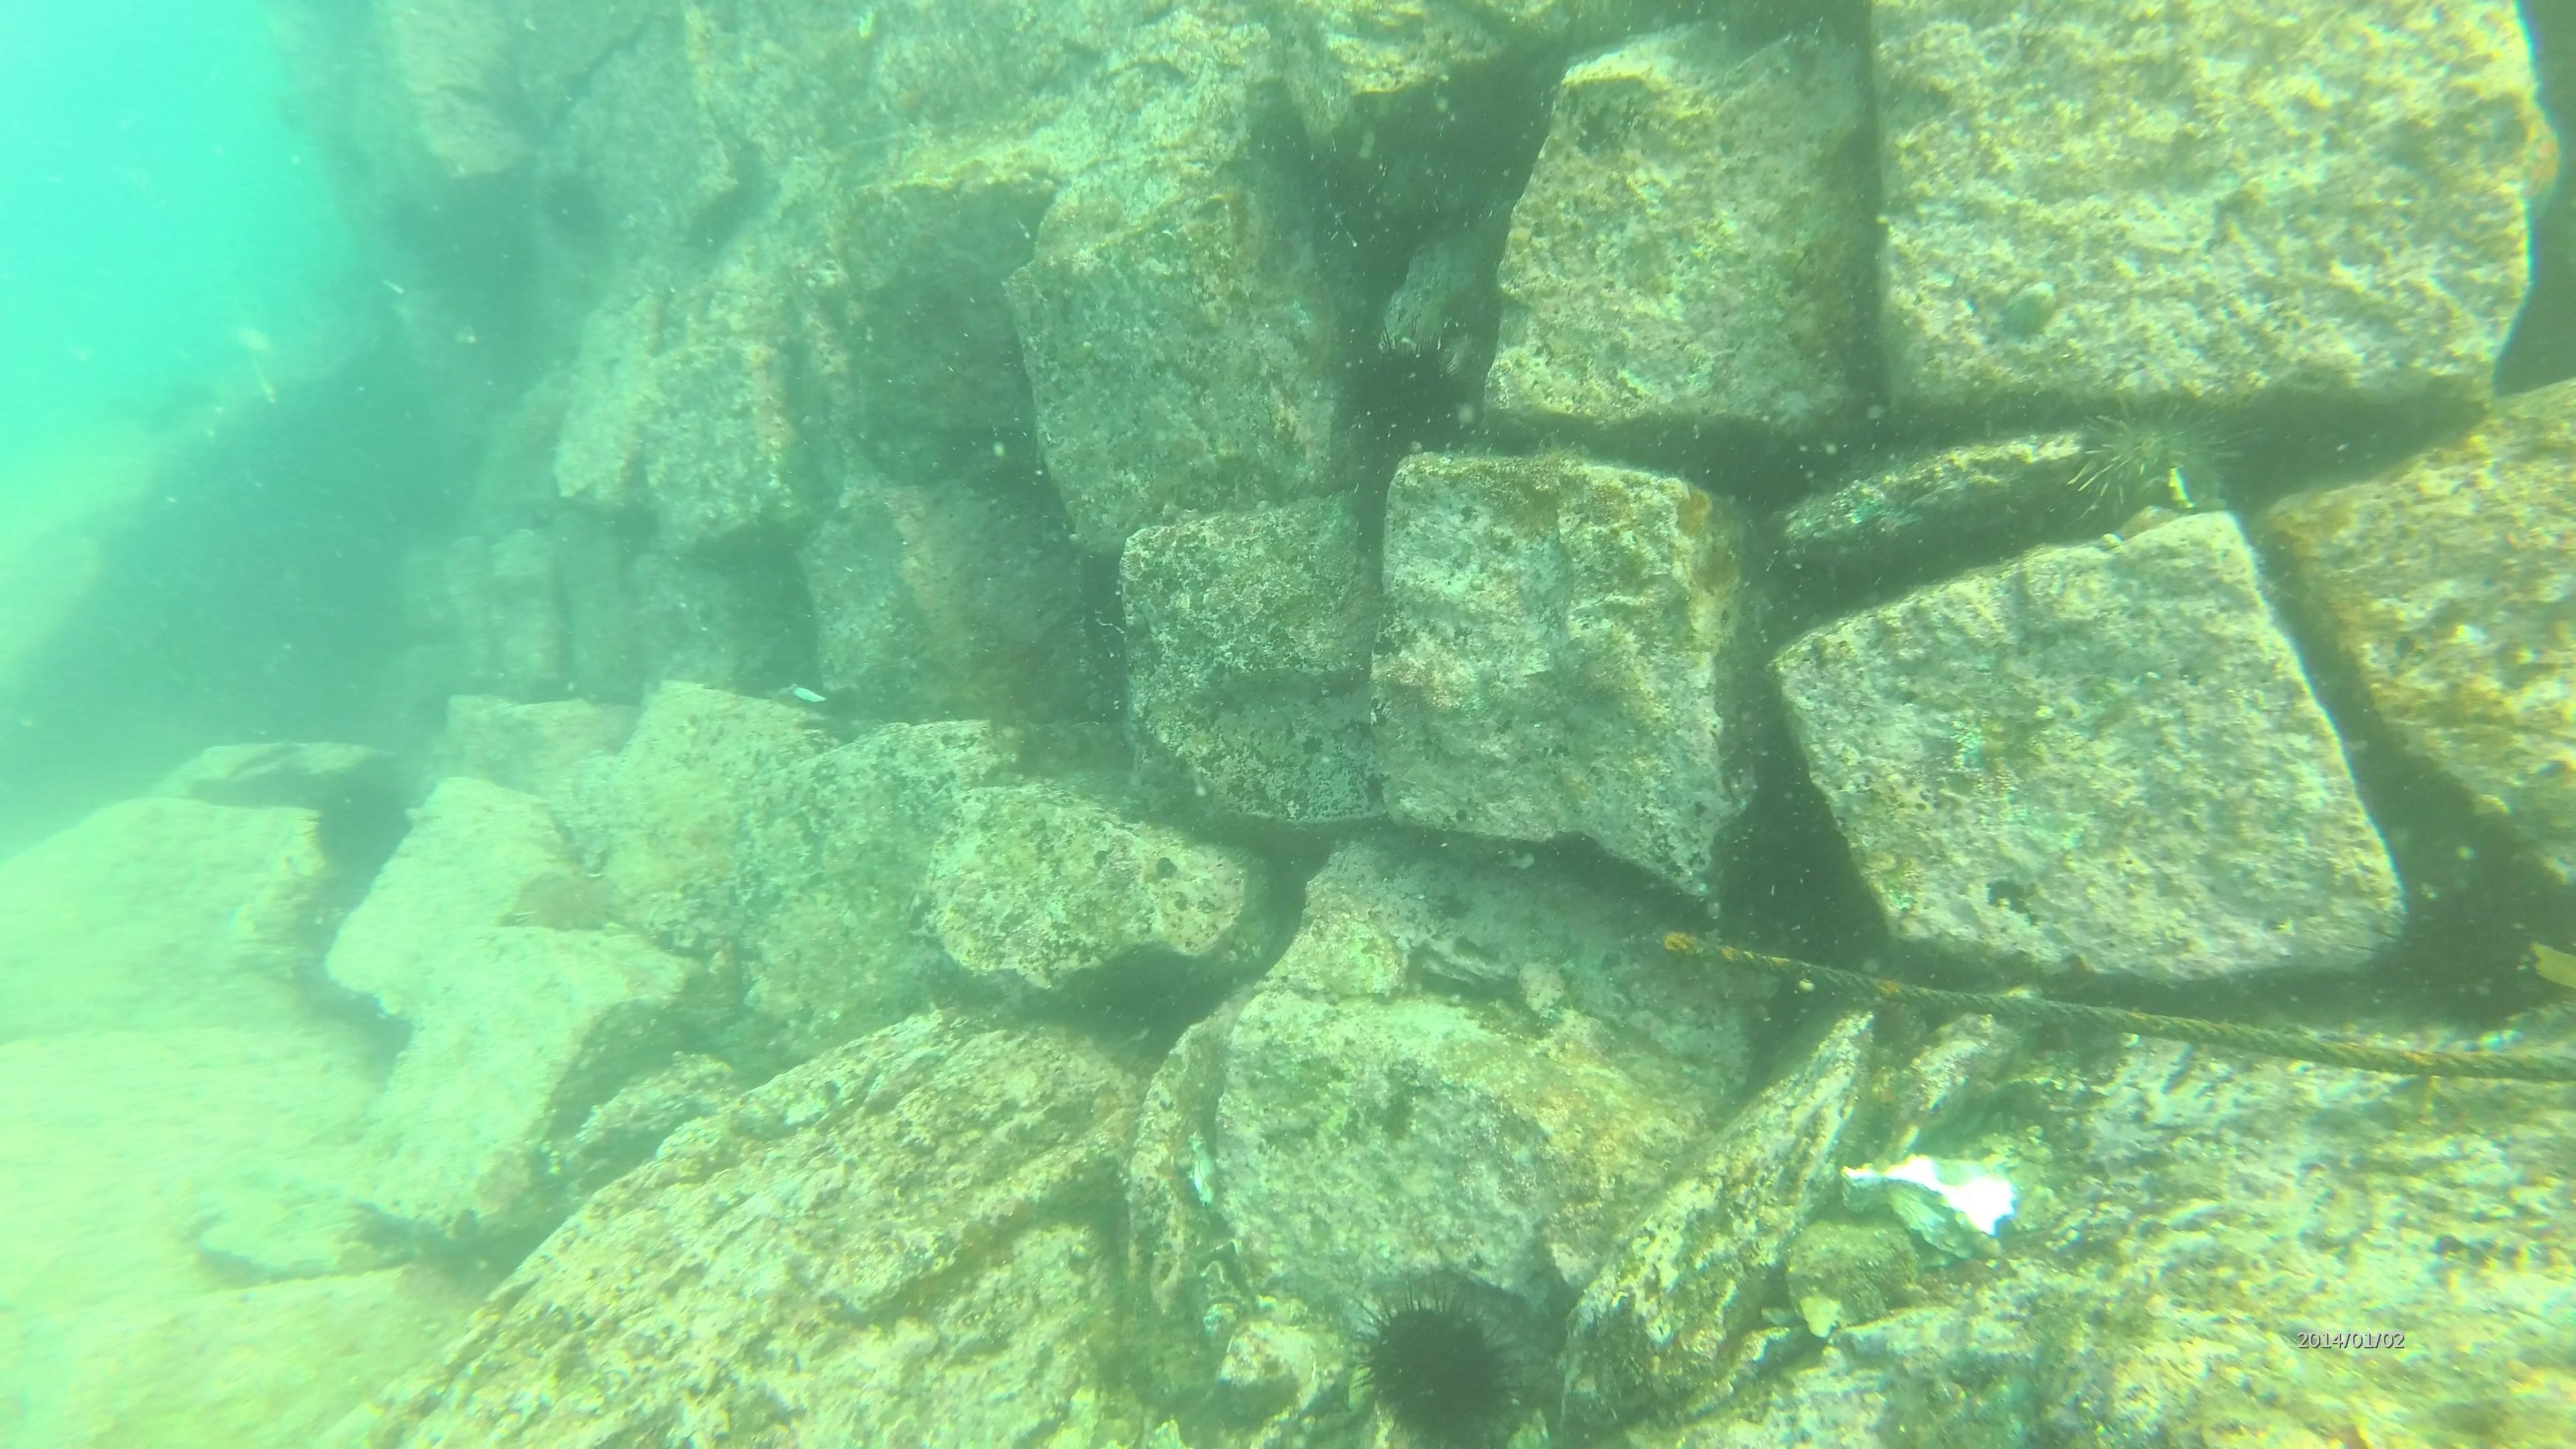echinus: (2373, 867, 2564, 1037), (1343, 1284, 1527, 1440), (2059, 389, 2249, 533), (1334, 331, 1484, 478), (303, 763, 421, 883), (513, 867, 614, 943), (536, 163, 617, 253)
